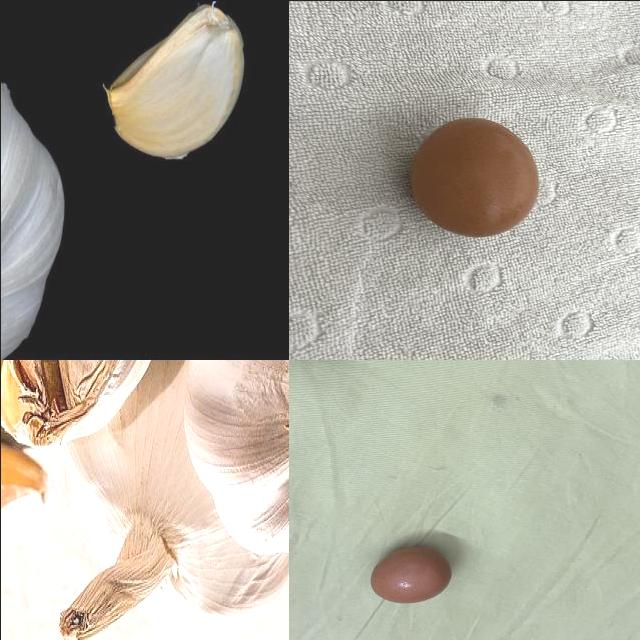egg: (405, 113, 545, 239), (368, 543, 457, 609)
garlic: (46, 360, 289, 640), (98, 1, 245, 163), (1, 35, 67, 360), (191, 360, 289, 555), (1, 360, 165, 471)
